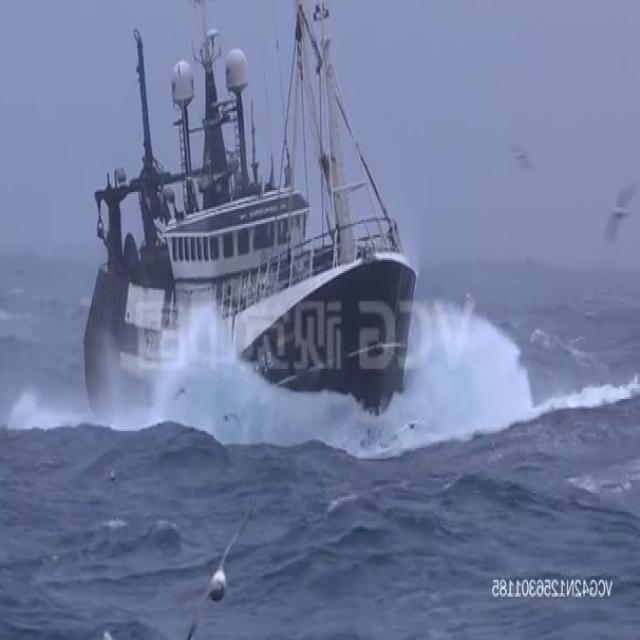houseboat: (83, 0, 420, 450)
